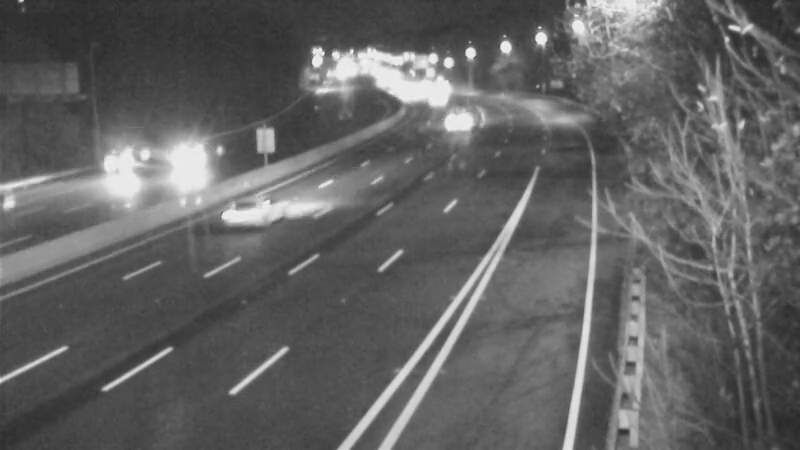vehicle: (205, 168, 285, 248), (141, 115, 221, 195), (85, 131, 165, 211), (1, 156, 63, 236), (429, 92, 479, 142)
